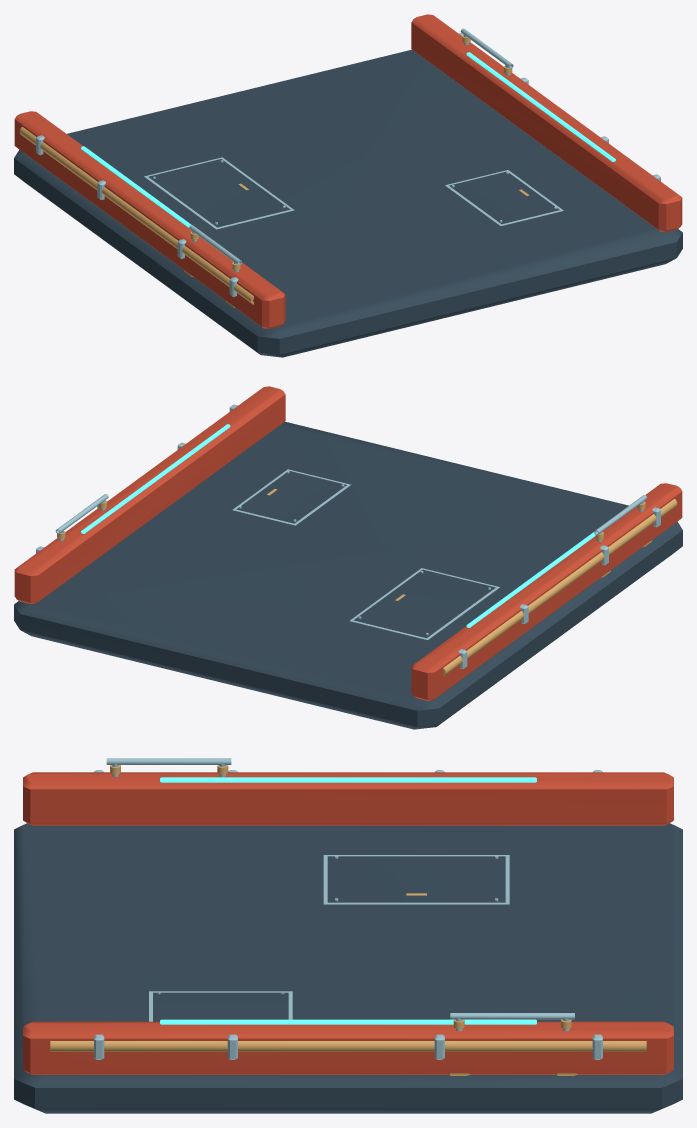
Rendered from SunkenRoute.glb.
3 views of the same model, one above another, from view 1: azimuth 30°, elevation 25°; view 2: azimuth 150°, elevation 25°; view 3: azimuth 270°, elevation 25° (orthographic). The views are drawn at different scales.
Visible parts, largest first — view 1: trench; view 2: trench; view 3: trench.
Boxes of the visible parts, box(x1,y1,x2,y2) form: trench: box(14, 14, 682, 357); trench: box(14, 386, 682, 729); trench: box(14, 758, 682, 1113).
Size of the model in its own units: 10.48 by 1.79 by 11.
